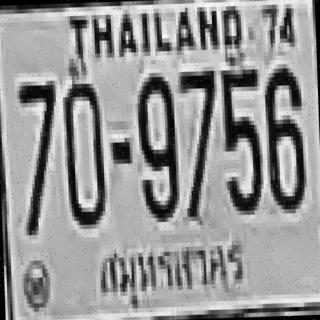N00: (61, 79, 106, 230)
N05: (219, 65, 263, 216)
N06: (263, 64, 306, 211)
N07: (177, 66, 220, 219), (16, 78, 58, 233)
N09: (134, 68, 180, 220)
P58: (96, 235, 246, 304)
